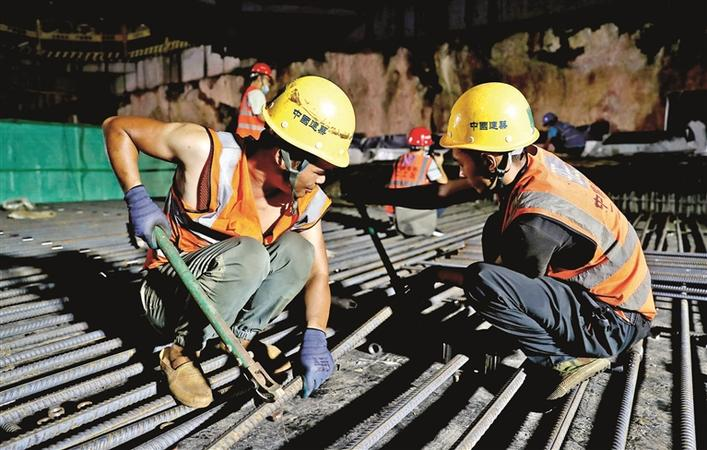person: (100, 73, 357, 408), (438, 78, 662, 400), (385, 125, 448, 239), (237, 60, 276, 141)
reflective_vest: (502, 144, 660, 326), (143, 127, 332, 275), (385, 151, 432, 189), (236, 85, 266, 141)
safety_helmet: (259, 73, 356, 200), (438, 79, 541, 196), (248, 61, 275, 93), (405, 125, 434, 154), (541, 111, 559, 130)
